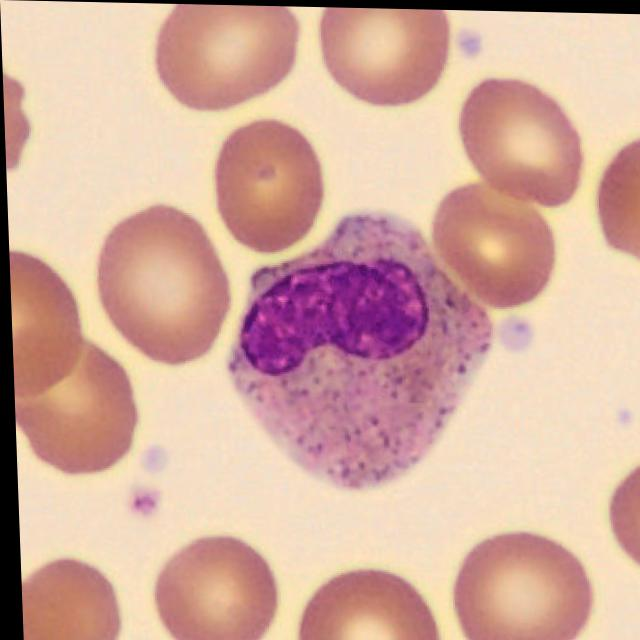Neutrofilo segmentado: (223, 210, 492, 491)
